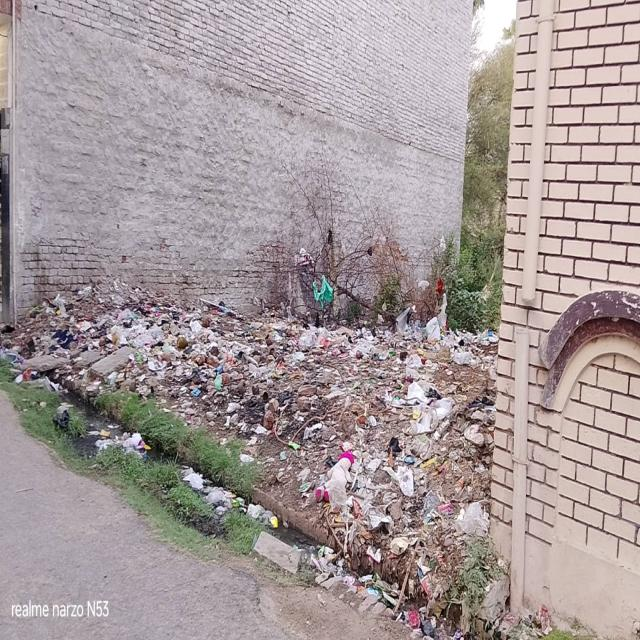Garbage: (123, 288, 492, 479)
